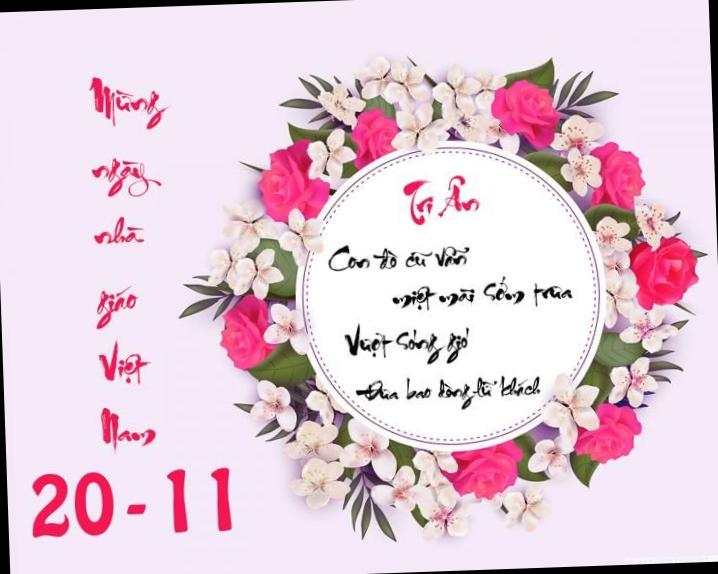text: (26, 464, 237, 541), (352, 372, 544, 414), (388, 274, 576, 314), (342, 319, 472, 370), (84, 74, 172, 135), (324, 240, 472, 274), (398, 173, 482, 228), (90, 152, 164, 199), (98, 405, 158, 456), (94, 338, 152, 389), (90, 282, 142, 332), (90, 212, 146, 250)
